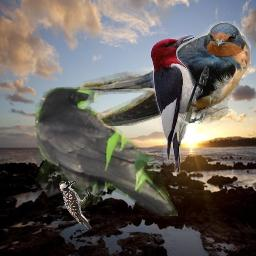Crow: (35, 87, 178, 216)
Swallow: (62, 21, 251, 126)
Woodpecker: (150, 34, 209, 174), (59, 180, 92, 229)
